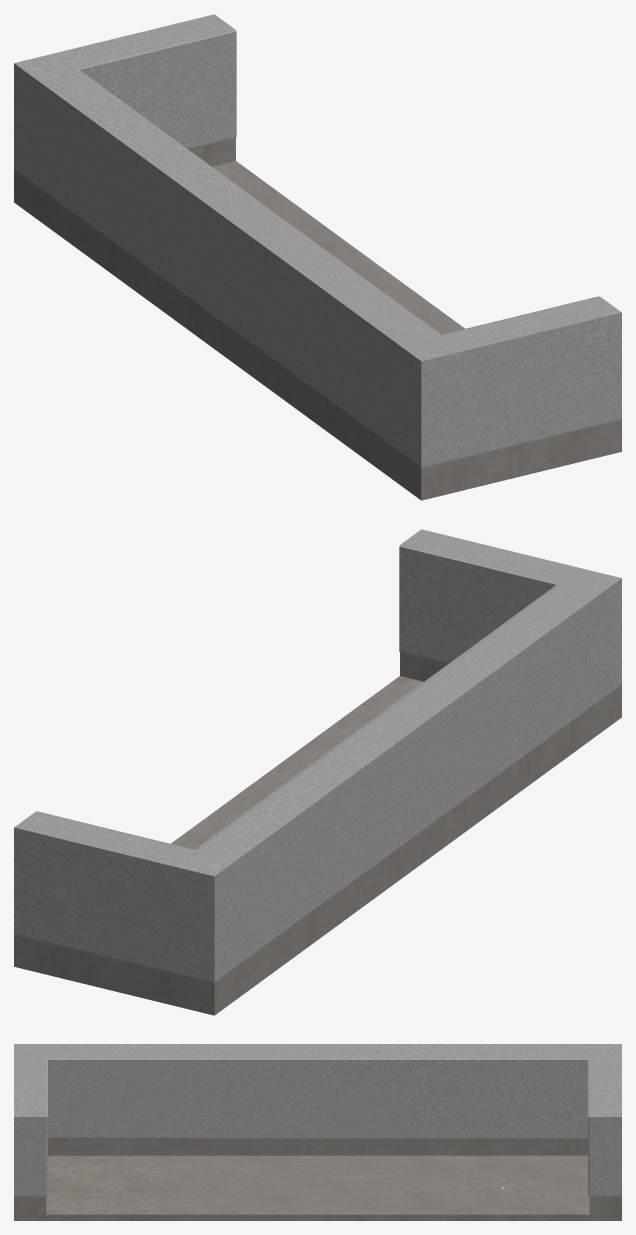
Rendered from balcony.gltf.
3 views of the same model, one above another, from view 1: azimuth 30°, elevation 25°; view 2: azimuth 150°, elevation 25°; view 3: azimuth 270°, elevation 25° (orthographic). The views are drawn at different scales.
Parts seen in each view (by area): view 1: balcony; view 2: balcony; view 3: balcony.
Part boxes in pixels (x1,y1,x2,y2): balcony: [14, 14, 621, 500]; balcony: [14, 529, 621, 1015]; balcony: [14, 1044, 621, 1220].
Size of the model in its own units: 1 by 0.6645 by 3.52.
1 material, 1 textured.
